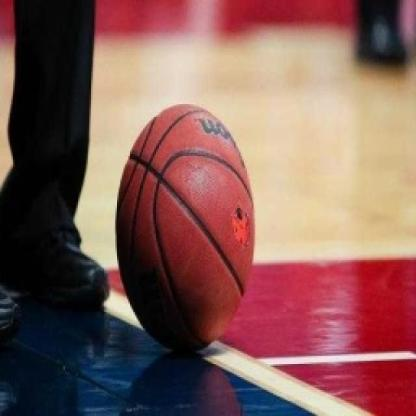basketball: (112, 99, 260, 358)
